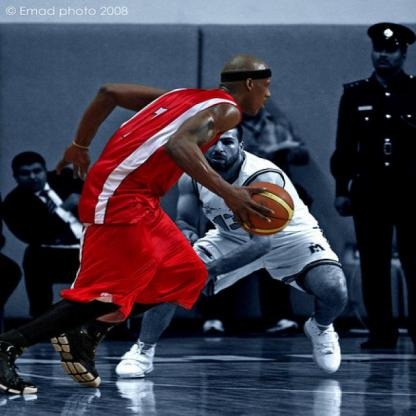basketball: (233, 180, 293, 236)
